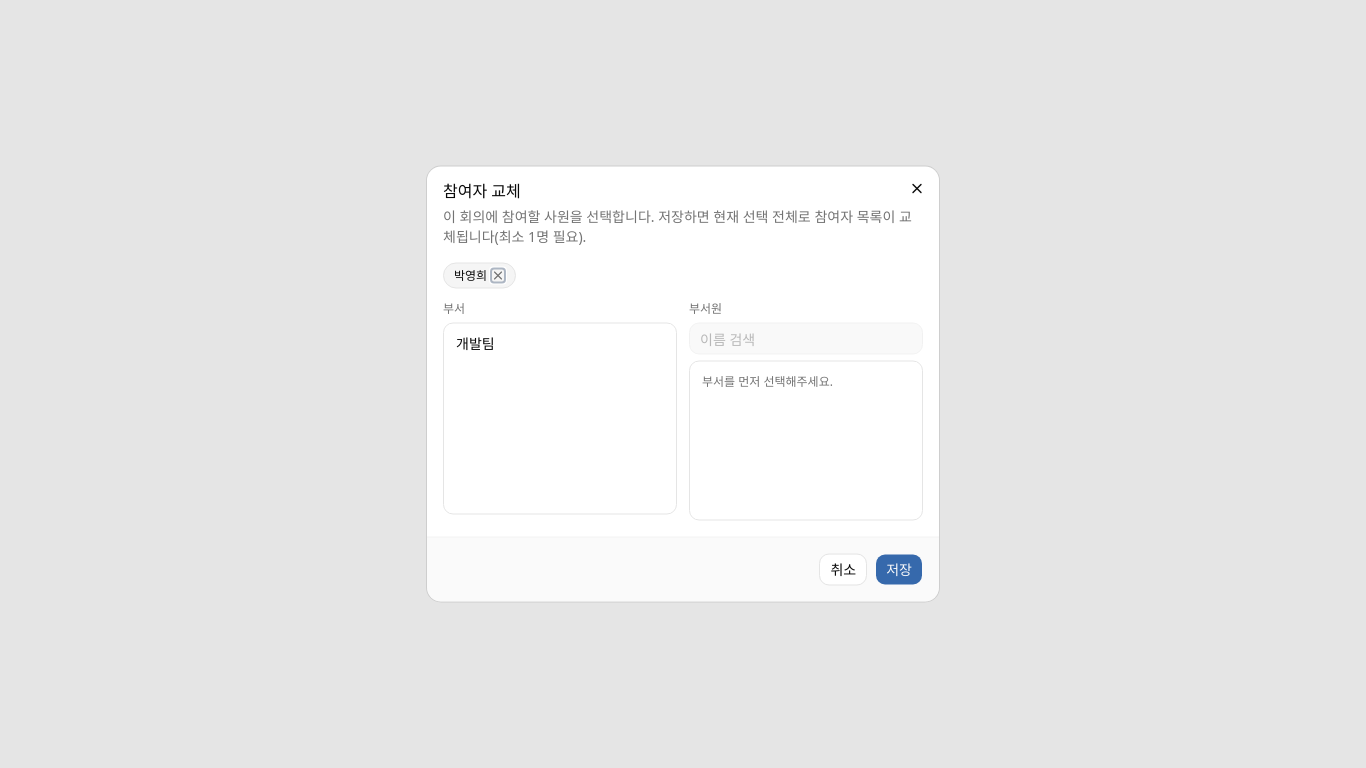
Scenario: MeetingParticipantsReplaceDialog - 선반영/게이팅 › 선택을 전부 해제하면(0명) 저장 버튼이 비활성이다
The image size is (1366, 768).
Click the button named "박영희 선택 해제" at (498, 276), box [491,268,505,282]
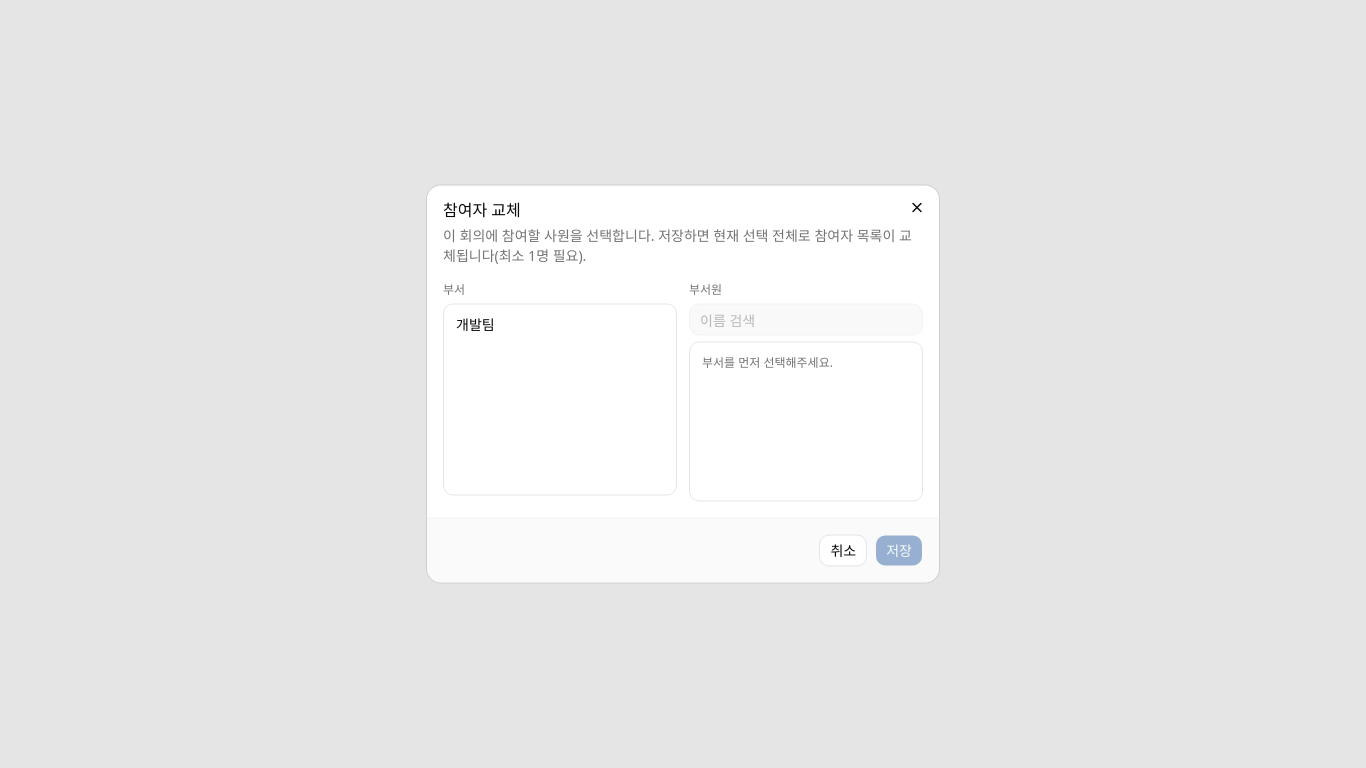
Result: the button "저장" is disabled at [875,534,923,566]
